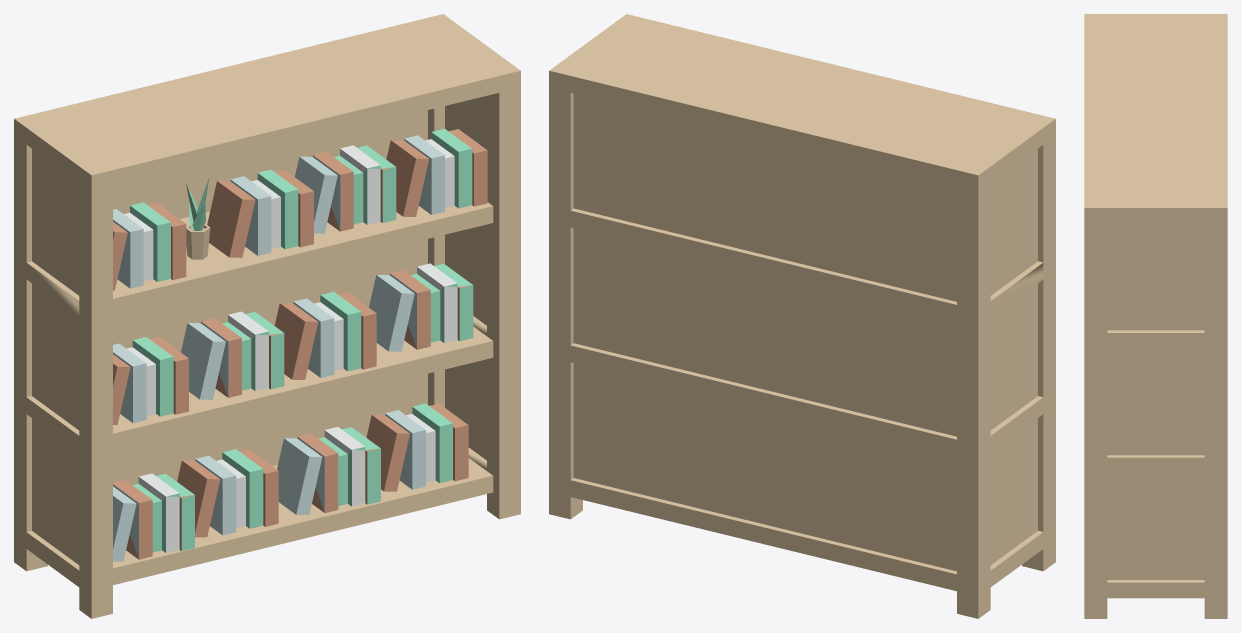
Rendered from BookCase.dae.
The picture shows the model from 3 angles, left to right: view 1: azimuth 30°, elevation 25°; view 2: azimuth 150°, elevation 25°; view 3: azimuth 270°, elevation 25°; orthographic projection. The views are drawn at different scales.
Visible parts, largest first — view 1: BookCase; view 2: BookCase; view 3: BookCase.
Part boxes in pixels (x1,y1,x2,y2): BookCase: [14, 14, 520, 618]; BookCase: [549, 14, 1055, 618]; BookCase: [1084, 14, 1227, 618].
Size of the model in its own units: 8 by 2.5 by 7.9.
